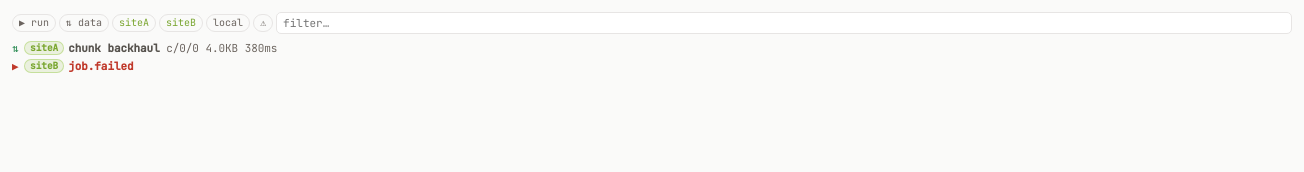
Test: Console rendering › filters by category chip and errors-only toggle
The width and height of the screenshot is (1304, 172).
Check: the text "chunk backhaul" is shown, box [68,41,160,55]
Click the button titled "filter: run" at (34, 23), box [12,14,56,32]
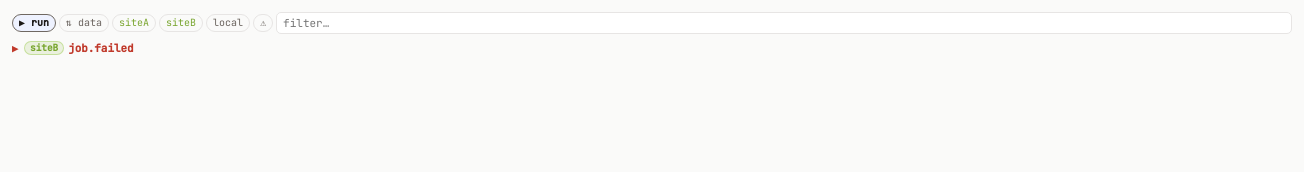
Check: the text "job.failed" is shown, box [68,41,134,55]
Check: the text "chunk backhaul" is gone
Click the button titled "filter: run" at (34, 23), box [12,14,56,32]
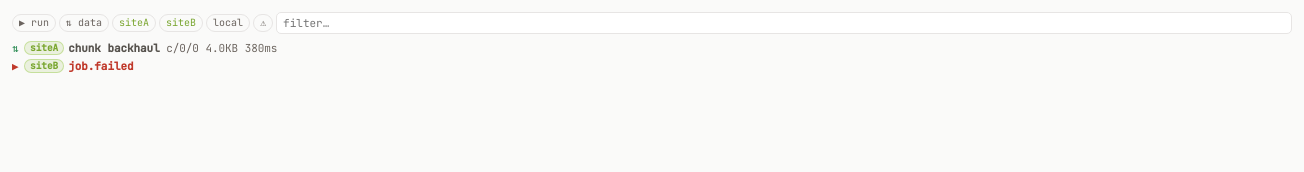
Click the button titled "errors + warnings only" at (263, 23), box [253,14,273,32]
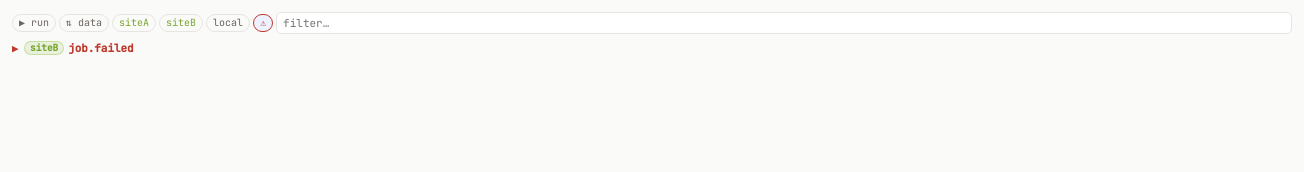
Check: the text "job.failed" is shown, box [68,41,134,55]
Check: the text "chunk backhaul" is gone
